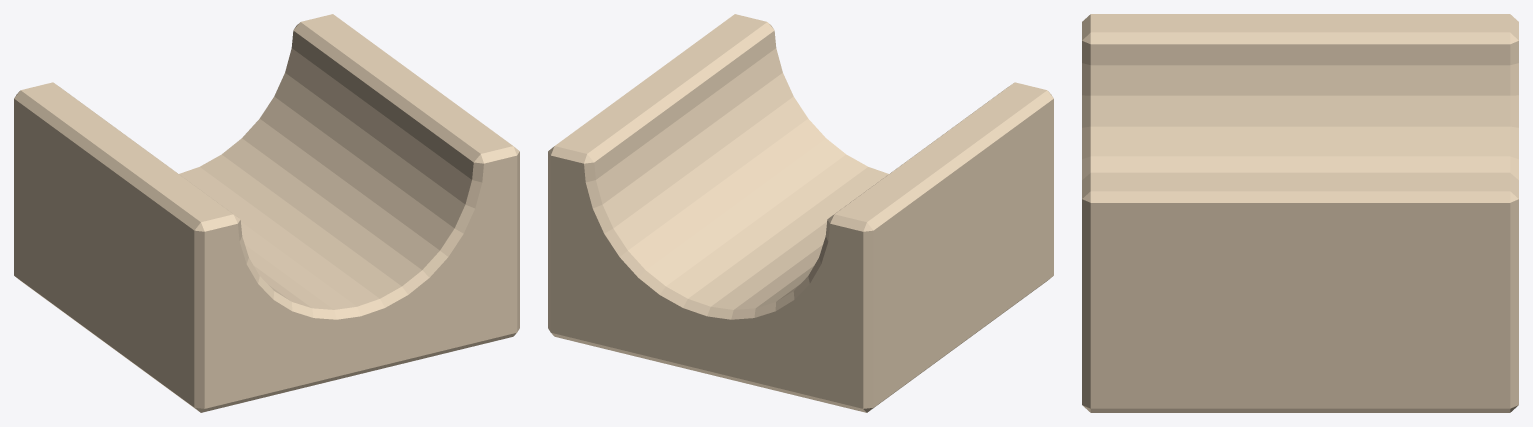
File: track_straight_short_a01.glb
3 views of the same model, side by side, from view 1: azimuth 30°, elevation 25°; view 2: azimuth 150°, elevation 25°; view 3: azimuth 270°, elevation 25° (orthographic). The views are drawn at different scales.
Parts seen in each view (by area): view 1: Straight - Short; view 2: Straight - Short; view 3: Straight - Short.
Boxes of the visible parts, x1=… form: Straight - Short: x1=14, y1=14, x2=519, y2=412; Straight - Short: x1=548, y1=14, x2=1053, y2=412; Straight - Short: x1=1082, y1=14, x2=1518, y2=412.
Bounding box in the file's own units: 1 × 0.56 × 1.
